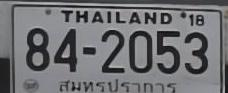0: (128, 30, 152, 72)
2: (101, 29, 124, 72)
3: (184, 31, 207, 74)
4: (53, 28, 76, 71)
5: (156, 30, 179, 73)
8: (26, 27, 48, 70)
SPK: (56, 75, 181, 93)
